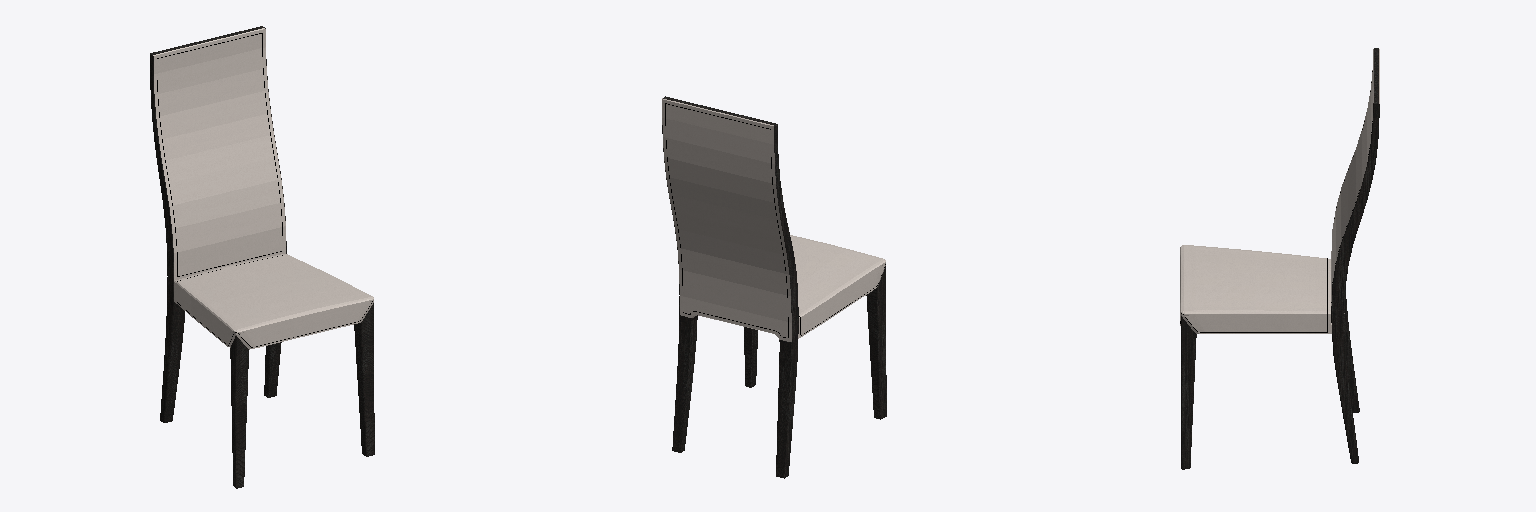
3 renders of one model, left to right at view 1: azimuth 30°, elevation 25°; view 2: azimuth 150°, elevation 25°; view 3: azimuth 270°, elevation 25°, orthographic.
Parts seen in each view (by area): view 1: cattelan_italia_lady; view 2: cattelan_italia_lady; view 3: cattelan_italia_lady.
Part boxes in pixels (left/top/right/bottom): cattelan_italia_lady: left=150, top=26, right=374, bottom=488; cattelan_italia_lady: left=662, top=96, right=886, bottom=478; cattelan_italia_lady: left=1180, top=48, right=1379, bottom=469.
Bounding box in the file's own units: 42.73 × 105 × 52.65.
3 materials, 2 textured.